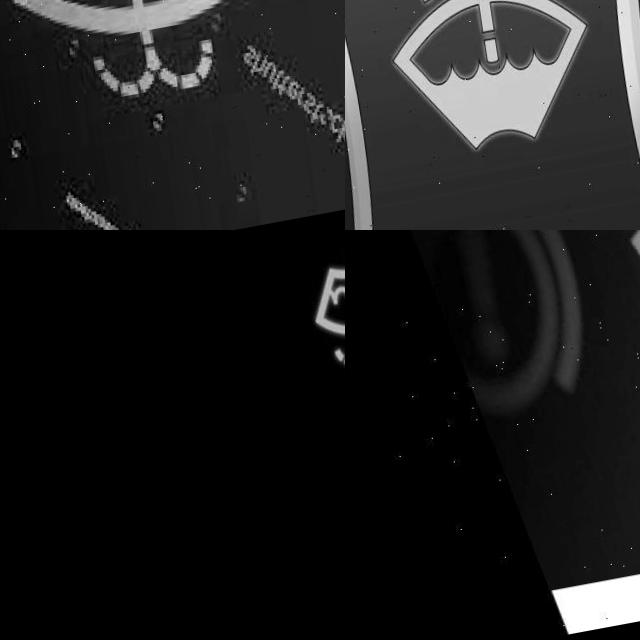Washer Fluid: (369, 0, 589, 174)
